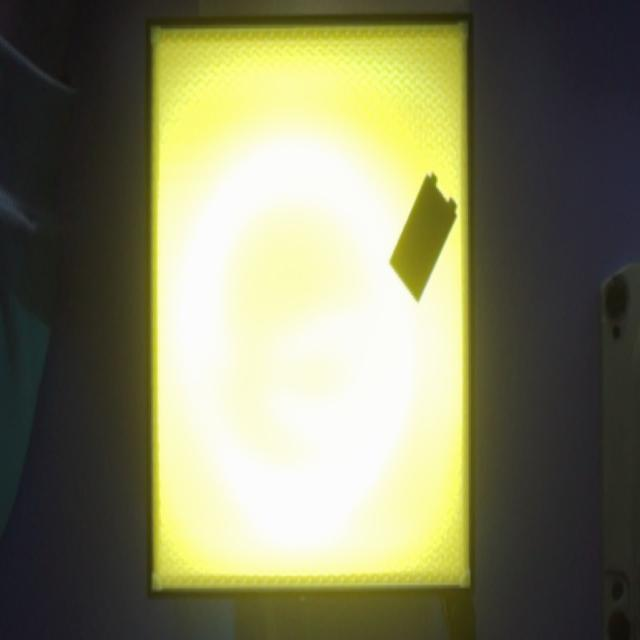bateria: (388, 173, 458, 305)
mesa: (146, 13, 474, 600)
